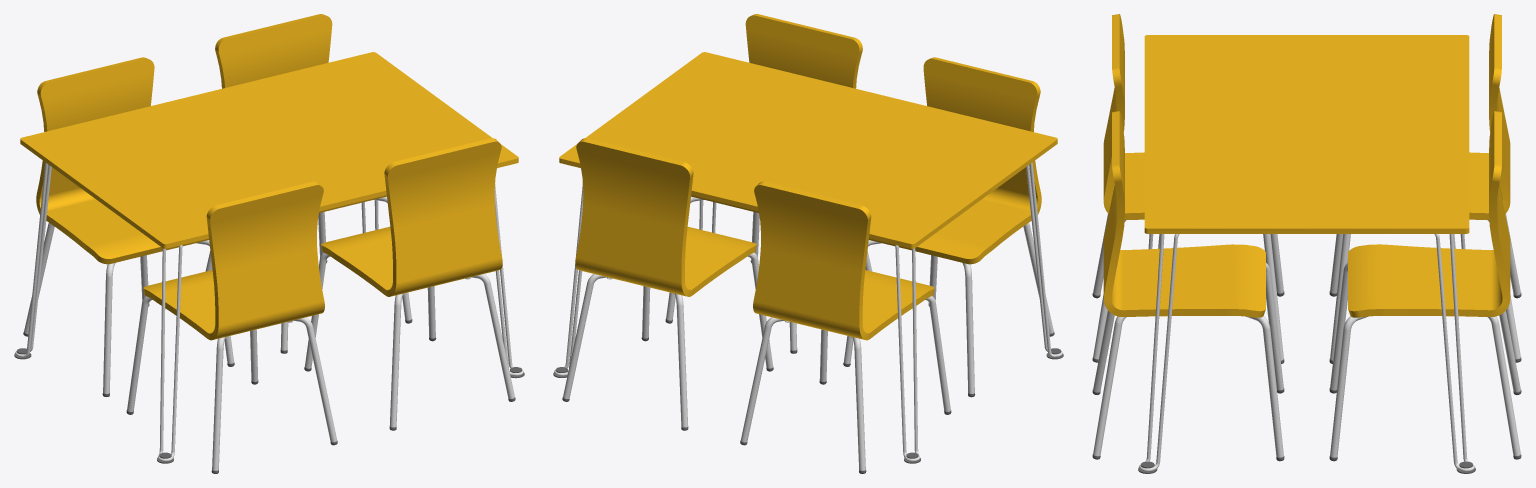
Rendered from table.glb.
3 renders of one model, left to right at view 1: azimuth 30°, elevation 25°; view 2: azimuth 150°, elevation 25°; view 3: azimuth 270°, elevation 25°, orthographic. The views are drawn at different scales.
Bounding box in the file's own units: 123 × 83.27 × 112.
Materials: 1 (1 with a texture image).
